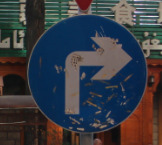right_turn: (26, 14, 147, 133)
